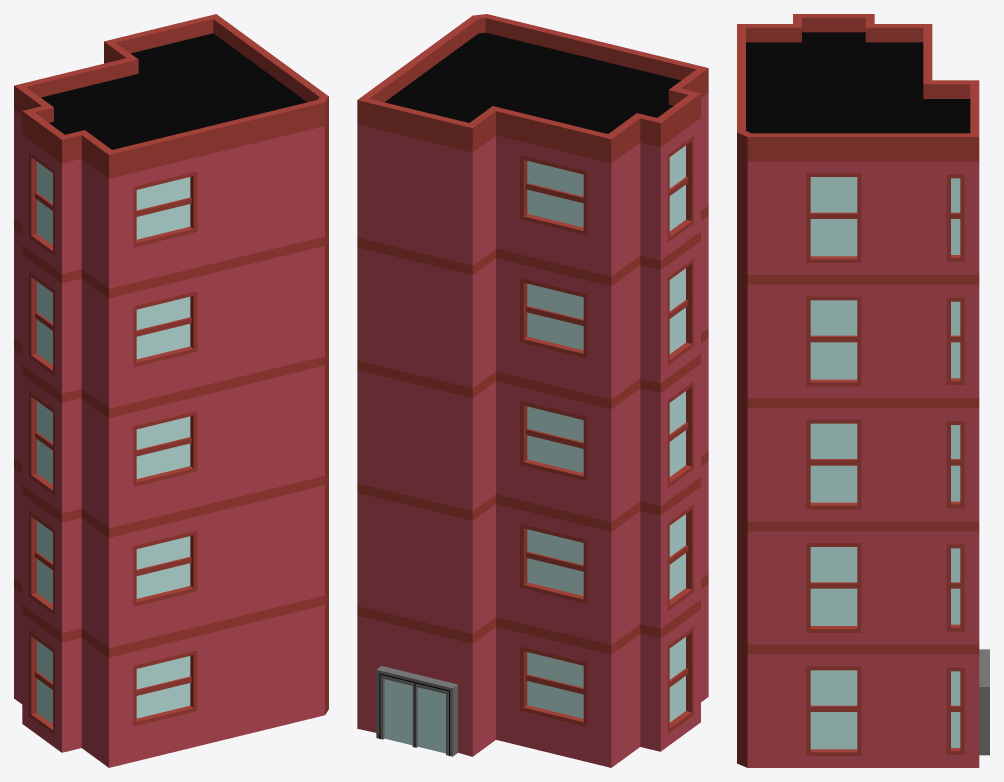
The model's file is BlockOfFlats1.fbx.
The picture shows the model from 3 angles, left to right: view 1: azimuth 30°, elevation 25°; view 2: azimuth 150°, elevation 25°; view 3: azimuth 270°, elevation 25°; orthographic projection. The views are drawn at different scales.
Parts seen in each view (by area): view 1: BlockOfFlats1; view 2: BlockOfFlats1; view 3: BlockOfFlats1.
Boxes of the visible parts, <box> form: BlockOfFlats1: <box>14,14,328,767</box>; BlockOfFlats1: <box>357,14,708,767</box>; BlockOfFlats1: <box>737,14,989,767</box>.
Size of the model in its own units: 4900 by 11720 by 4258.
